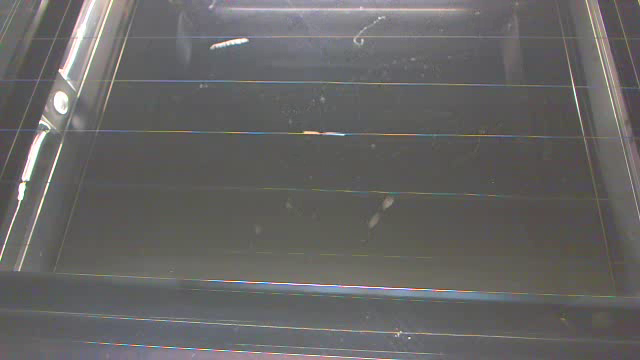Alfa: (207, 34, 253, 52), (303, 125, 349, 141)
